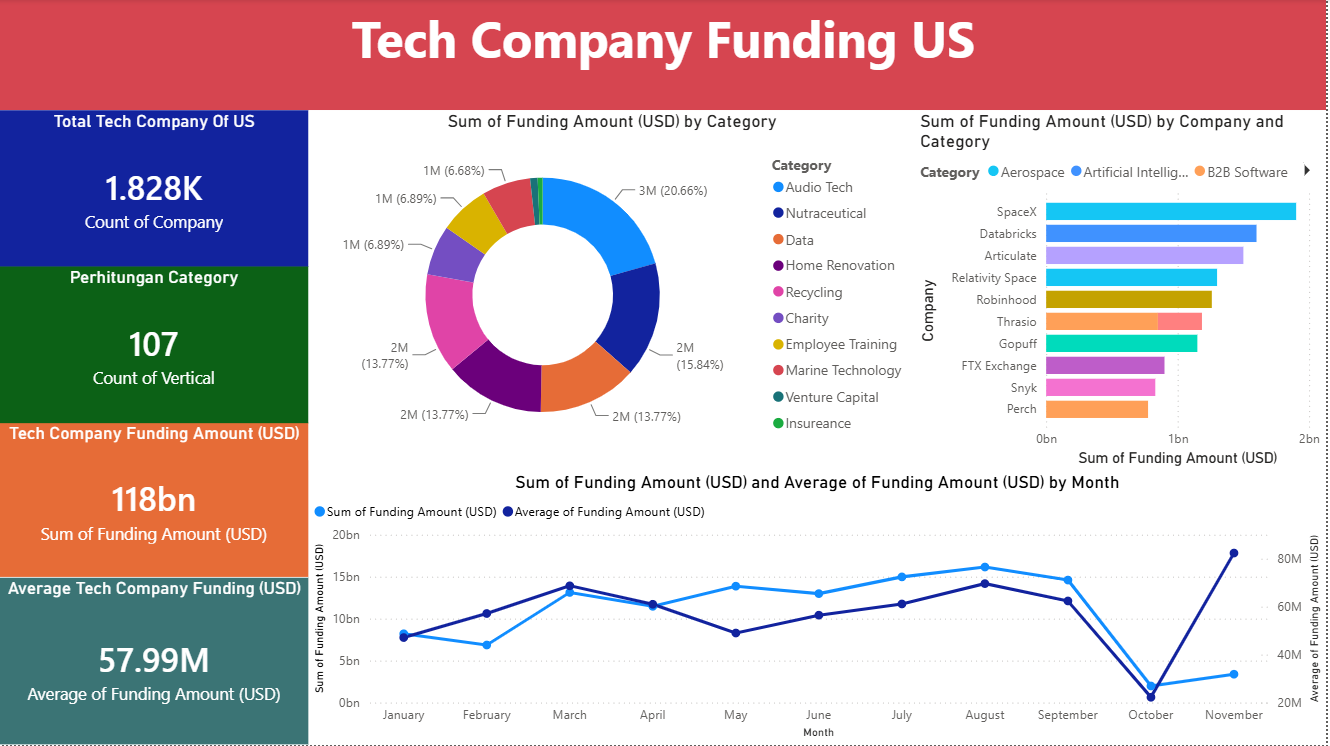

Layout of this report page (visuals, bound fields, positions):
{"tool":"powerbi","page":{"name":"Page 1","canvas":[1280,720],"ordinal":0},"visuals":[{"type":"textbox","box":[0,0,1280.3,107],"z":0},{"type":"cardVisual","title":"Tech Company Funding Amount (USD)","fields":{"Data":["Sum(Company Funding US.Funding Amount (USD))"]},"box":[0,408.9,297.8,148.9],"z":1000},{"type":"cardVisual","title":"Total Tech Company Of US","fields":{"Data":["Count(Company Funding US.Company)"]},"box":[0,107,297.8,150.9],"z":2000},{"type":"cardVisual","title":"Perhitungan Category","fields":{"Data":["Count(Company Funding US.Vertical)"]},"box":[0,258,297.8,150.9],"z":3000},{"type":"cardVisual","title":"Average Tech Company Funding (USD)","fields":{"Data":["Avg(Company Funding US.Funding Amount (USD))"]},"box":[0,558.5,297.8,160.5],"z":4000},{"type":"barChart","fields":{"Category":["Company Funding US.Company"],"Series":["Company Funding US.Vertical"],"Y":["Sum(Company Funding US.Funding Amount (USD))"]},"box":[883.7,107,396.6,348.5],"z":5000},{"type":"donutChart","fields":{"Category":["Company Funding US.Vertical"],"Y":["Sum(Company Funding US.Funding Amount (USD))"]},"box":[297.8,107,585.9,337.6],"z":6000},{"type":"lineChart","fields":{"Category":["Company Funding US.Funding Date.Variation.Date Hierarchy.Month","Company Funding US.Funding Date.Variation.Date Hierarchy.Day"],"Y":["Sum(Company Funding US.Funding Amount (USD))"],"Y2":["Avg(Company Funding US.Funding Amount (USD))"]},"box":[298,456,982,263],"z":7000}]}

Visuals, with their boxes in screenshot pixels (x1, y1, x2, y2), scaled from the page's 1280x720 canvas onto the 1330x746 screenshot:
textbox: 0/0/1329/111
"Tech Company Funding Amount (USD)" cardVisual: 0/424/309/578
"Total Tech Company Of US" cardVisual: 0/111/309/267
"Perhitungan Category" cardVisual: 0/267/309/424
"Average Tech Company Funding (USD)" cardVisual: 0/579/309/745
barChart - Company Funding US.Company x Company Funding US.Vertical: 918/111/1329/472
donutChart - Company Funding US.Vertical x Sum(Company Funding US.Funding Amount (USD)): 309/111/918/461
lineChart - Company Funding US.Funding Date.Variation.Date Hierarchy.Month x Company Funding US.Funding Date.Variation.Date Hierarchy.Day: 310/472/1329/745
